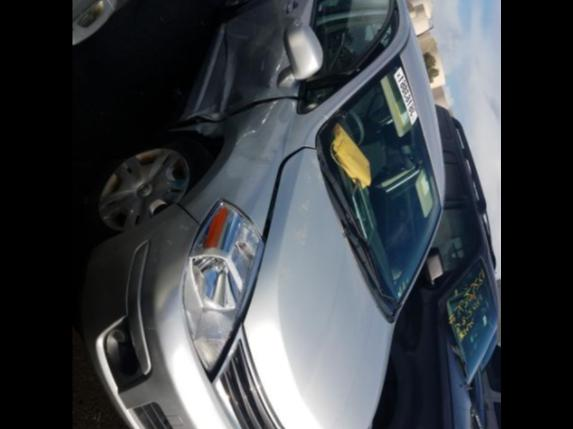Broken part: (176, 0, 400, 135), (205, 144, 305, 386)
Corrosion: (136, 149, 157, 163), (105, 174, 118, 187)
Dent: (185, 6, 288, 160)
Scratch: (243, 96, 279, 139), (266, 48, 286, 79), (178, 224, 188, 230), (165, 240, 172, 246), (153, 258, 157, 262)
